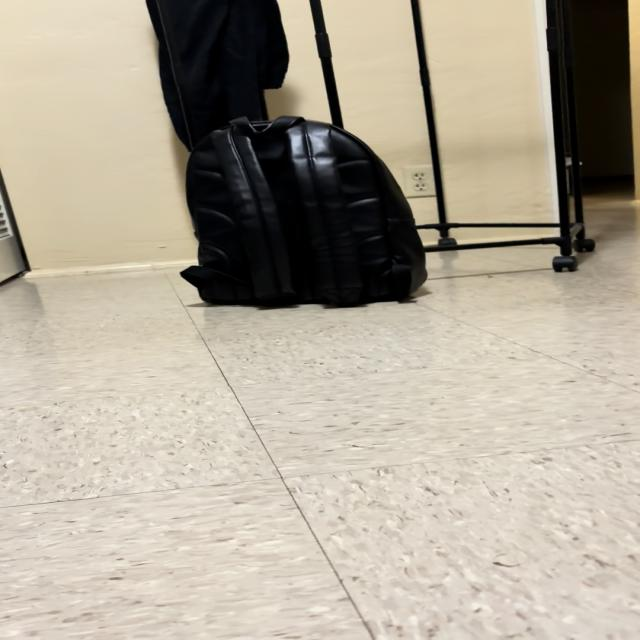backpack: (182, 117, 426, 306)
